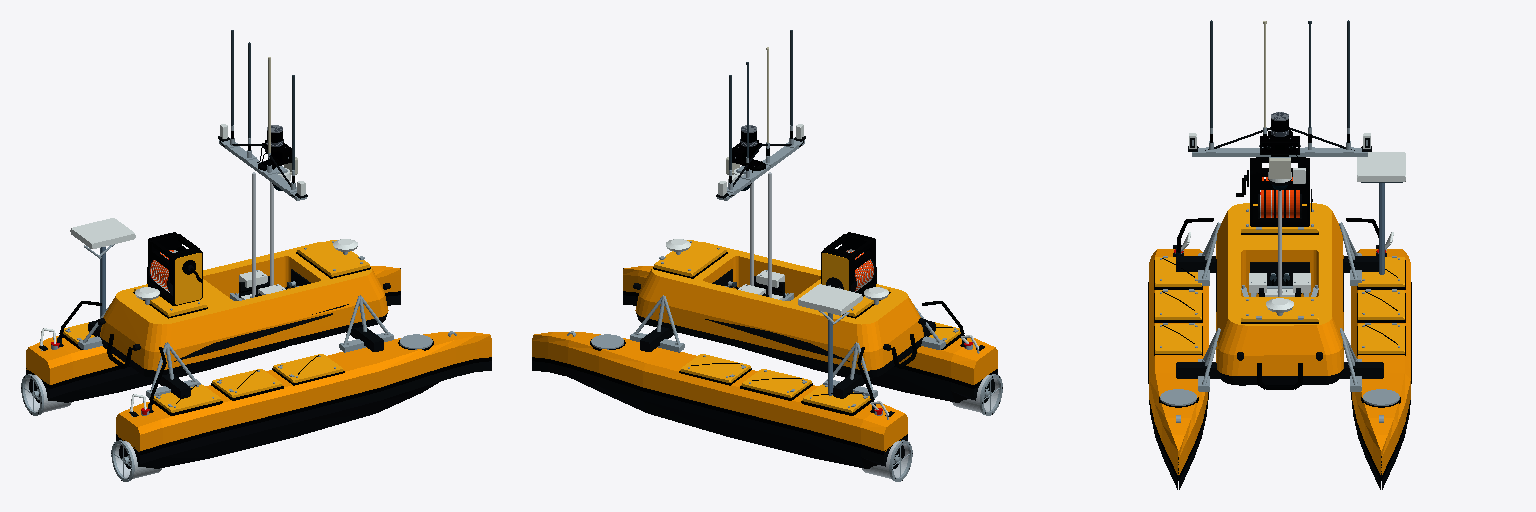
robot.urdf — me120:
<?xml version="1.0"?>
<!-- Visual description only. Fixed placements are source estimates, not measured extrinsics. -->
<robot name="me120">
<link name="base_link"/>
<link name="hull_port"><visual><geometry><mesh filename="package://usv_rov_description/meshes/me120/hull_port.dae"/></geometry></visual></link><joint name="hull_port_fixed" type="fixed"><parent link="base_link"/><child link="hull_port"/><origin xyz="0 0 -0.25" rpy="0 0 0"/></joint>
<link name="hull_starboard"><visual><geometry><mesh filename="package://usv_rov_description/meshes/me120/hull_starboard.dae"/></geometry></visual></link><joint name="hull_starboard_fixed" type="fixed"><parent link="base_link"/><child link="hull_starboard"/><origin xyz="0 0 -0.25" rpy="0 0 0"/></joint>
<link name="bridge_frame"><visual><geometry><mesh filename="package://usv_rov_description/meshes/me120/bridge_frame.dae"/></geometry></visual></link><joint name="bridge_frame_fixed" type="fixed"><parent link="base_link"/><child link="bridge_frame"/><origin xyz="0 0 -0.25" rpy="0 0 0"/></joint>
<link name="equipment_cabin"><visual><geometry><mesh filename="package://usv_rov_description/meshes/me120/equipment_cabin.dae"/></geometry></visual></link><joint name="equipment_cabin_fixed" type="fixed"><parent link="base_link"/><child link="equipment_cabin"/><origin xyz="0 0 -0.25" rpy="0 0 0"/></joint>
<link name="payload_lifter_fixed"><visual><geometry><mesh filename="package://usv_rov_description/meshes/me120/payload_lifter_fixed.dae"/></geometry></visual></link><joint name="payload_lifter_fixed_fixed" type="fixed"><parent link="base_link"/><child link="payload_lifter_fixed"/><origin xyz="0 0 -0.25" rpy="0 0 0"/></joint>
<link name="payload_lifter_moving"><visual><geometry><mesh filename="package://usv_rov_description/meshes/me120/payload_lifter_moving.dae"/></geometry></visual></link><joint name="payload_lifter_moving_fixed" type="fixed"><parent link="base_link"/><child link="payload_lifter_moving"/><origin xyz="0 0 0.168" rpy="0 0 0"/></joint>
<link name="payload_mounting_ring"><visual><geometry><mesh filename="package://usv_rov_description/meshes/me120/payload_mounting_ring.dae"/></geometry></visual></link><joint name="payload_mounting_ring_fixed" type="fixed"><parent link="base_link"/><child link="payload_mounting_ring"/><origin xyz="0 0 0.168" rpy="0 0 0"/></joint>
<link name="antenna"><visual><geometry><mesh filename="package://usv_rov_description/meshes/me120/antenna.dae"/></geometry></visual></link><joint name="antenna_fixed" type="fixed"><parent link="base_link"/><child link="antenna"/><origin xyz="0 0 -0.592" rpy="0 0 0"/></joint>
<link name="thrusters"><visual><geometry><mesh filename="package://usv_rov_description/meshes/me120/thrusters.dae"/></geometry></visual></link><joint name="thrusters_fixed" type="fixed"><parent link="base_link"/><child link="thrusters"/><origin xyz="0 0 -0.25" rpy="0 0 0"/></joint>
<link name="sensor_mount"><visual><geometry><mesh filename="package://usv_rov_description/meshes/me120/sensor_mount.dae"/></geometry></visual></link><joint name="sensor_mount_fixed" type="fixed"><parent link="base_link"/><child link="sensor_mount"/><origin xyz="0.077 0 1.274" rpy="0 0 0"/></joint>
<link name="zed_camera"><visual><geometry><mesh filename="package://usv_rov_description/meshes/me120/zed_camera.dae"/></geometry></visual></link><joint name="zed_camera_fixed" type="fixed"><parent link="base_link"/><child link="zed_camera"/><origin xyz="0.109 0 1.351" rpy="0 0 0"/></joint>
<link name="robosense_lidar"><visual><geometry><mesh filename="package://usv_rov_description/meshes/me120/robosense_lidar.dae"/></geometry></visual></link><joint name="robosense_lidar_fixed" type="fixed"><parent link="base_link"/><child link="robosense_lidar"/><origin xyz="0.072 0 1.397" rpy="0 0 0"/></joint>
<link name="front_cover"><visual><geometry><mesh filename="package://usv_rov_description/meshes/me120/front_cover.dae"/></geometry></visual></link><joint name="front_cover_fixed" type="fixed"><parent link="base_link"/><child link="front_cover"/><origin xyz="0.181 0 1.253" rpy="0 0 0"/></joint>
<link name="sensor_service_cable_loops"><visual><geometry><mesh filename="package://usv_rov_description/meshes/me120/sensor_service_cable_loops.dae"/></geometry></visual></link><joint name="sensor_service_cable_loops_fixed" type="fixed"><parent link="base_link"/><child link="sensor_service_cable_loops"/><origin xyz="0 0 -0.592" rpy="0 0 0"/></joint>
<link name="Starlink_support_concept"><visual><geometry><mesh filename="package://usv_rov_description/meshes/me120/Starlink_support_concept.dae"/></geometry></visual></link><joint name="Starlink_support_concept_fixed" type="fixed"><parent link="base_link"/><child link="Starlink_support_concept"/><origin xyz="-0.8 0.54 0.48" rpy="0 0 0"/></joint>
<link name="mounted_e_reel"><visual><geometry><mesh filename="package://usv_rov_description/meshes/me120/mounted_e_reel.dae"/></geometry></visual></link><joint name="mounted_e_reel_fixed" type="fixed"><parent link="base_link"/><child link="mounted_e_reel"/><origin xyz="-0.615 0 0.585" rpy="0 0 0"/></joint>
<link name="mounted_starlink_mini"><visual><geometry><mesh filename="package://usv_rov_description/meshes/me120/mounted_starlink_mini.dae"/></geometry></visual></link><joint name="mounted_starlink_mini_fixed" type="fixed"><parent link="base_link"/><child link="mounted_starlink_mini"/><origin xyz="-0.8 0.54 0.78" rpy="0 0 0"/></joint>
<link name="robosense_mount_frame"/><joint name="robosense_mount_frame_fixed" type="fixed"><parent link="base_link"/><child link="robosense_mount_frame"/><origin xyz="0.072 0 1.397" rpy="0 0 0"/></joint>
<link name="zed_mount_frame"/><joint name="zed_mount_frame_fixed" type="fixed"><parent link="base_link"/><child link="zed_mount_frame"/><origin xyz="0.109 0 1.351" rpy="0 0 0"/></joint>
<link name="hikvision_mount_frame"/><joint name="hikvision_mount_frame_fixed" type="fixed"><parent link="base_link"/><child link="hikvision_mount_frame"/><origin xyz="0.108 0 1.143" rpy="0 0 0"/></joint>
</robot>

--- Render facts (derived) ---
3 views of the same robot in one strip: view 1: azimuth 30°, elevation 25°; view 2: azimuth 150°, elevation 25°; view 3: azimuth 270°, elevation 25° (orthographic).
Robot: me120 — 21 links, 20 joints (20 fixed); root link base_link; default pose: all joints at 0.
Links seen in each view (by area): view 1: hull_port, equipment_cabin, hull_starboard, mounted_e_reel, antenna, bridge_frame, thrusters, mounted_starlink_mini, payload_lifter_moving, payload_lifter_fixed; view 2: hull_starboard, equipment_cabin, hull_port, mounted_e_reel, bridge_frame, antenna, thrusters, mounted_starlink_mini, payload_lifter_moving, payload_lifter_fixed; view 3: equipment_cabin, hull_port, hull_starboard, bridge_frame, antenna, mounted_e_reel, mounted_starlink_mini, payload_lifter_fixed, sensor_mount, Starlink_support_concept.
Link boxes in pixels (left/top/right/bottom): hull_port: left=116, top=331, right=491, bottom=468; equipment_cabin: left=97, top=239, right=390, bottom=377; hull_starboard: left=26, top=266, right=400, bottom=402; mounted_e_reel: left=147, top=232, right=202, bottom=305; antenna: left=218, top=30, right=307, bottom=200; bridge_frame: left=78, top=287, right=393, bottom=398; thrusters: left=21, top=328, right=161, bottom=481; mounted_starlink_mini: left=70, top=218, right=135, bottom=258; payload_lifter_moving: left=252, top=172, right=273, bottom=297; payload_lifter_fixed: left=230, top=270, right=288, bottom=300; hull_starboard: left=532, top=331, right=907, bottom=468; equipment_cabin: left=633, top=239, right=926, bottom=377; hull_port: left=623, top=266, right=997, bottom=402; mounted_e_reel: left=821, top=232, right=876, bottom=296; bridge_frame: left=630, top=287, right=945, bottom=398; antenna: left=716, top=30, right=805, bottom=200; thrusters: left=862, top=335, right=1002, bottom=481; mounted_starlink_mini: left=798, top=284, right=862, bottom=324; payload_lifter_moving: left=750, top=172, right=771, bottom=297; payload_lifter_fixed: left=735, top=270, right=793, bottom=300; equipment_cabin: left=1216, top=203, right=1343, bottom=389; hull_port: left=1148, top=218, right=1213, bottom=489; hull_starboard: left=1346, top=218, right=1411, bottom=489; bridge_frame: left=1176, top=222, right=1383, bottom=391; antenna: left=1188, top=20, right=1371, bottom=190; mounted_e_reel: left=1236, top=157, right=1312, bottom=226; mounted_starlink_mini: left=1357, top=152, right=1405, bottom=182; payload_lifter_fixed: left=1249, top=273, right=1310, bottom=296; sensor_mount: left=1259, top=131, right=1300, bottom=156; Starlink_support_concept: left=1379, top=183, right=1384, bottom=274.
Size in the robot's own frame: 2.55 by 1.4 by 2.3 metres.
17 mesh visuals loaded from 17 distinct referenced files (17 Collada DAE).
